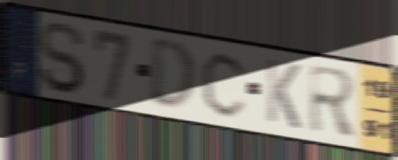7: (91, 25, 134, 105)
C: (200, 49, 250, 120)
D: (147, 38, 200, 115)
K: (264, 56, 302, 133)
R: (307, 62, 361, 140)
S: (37, 20, 87, 97)
